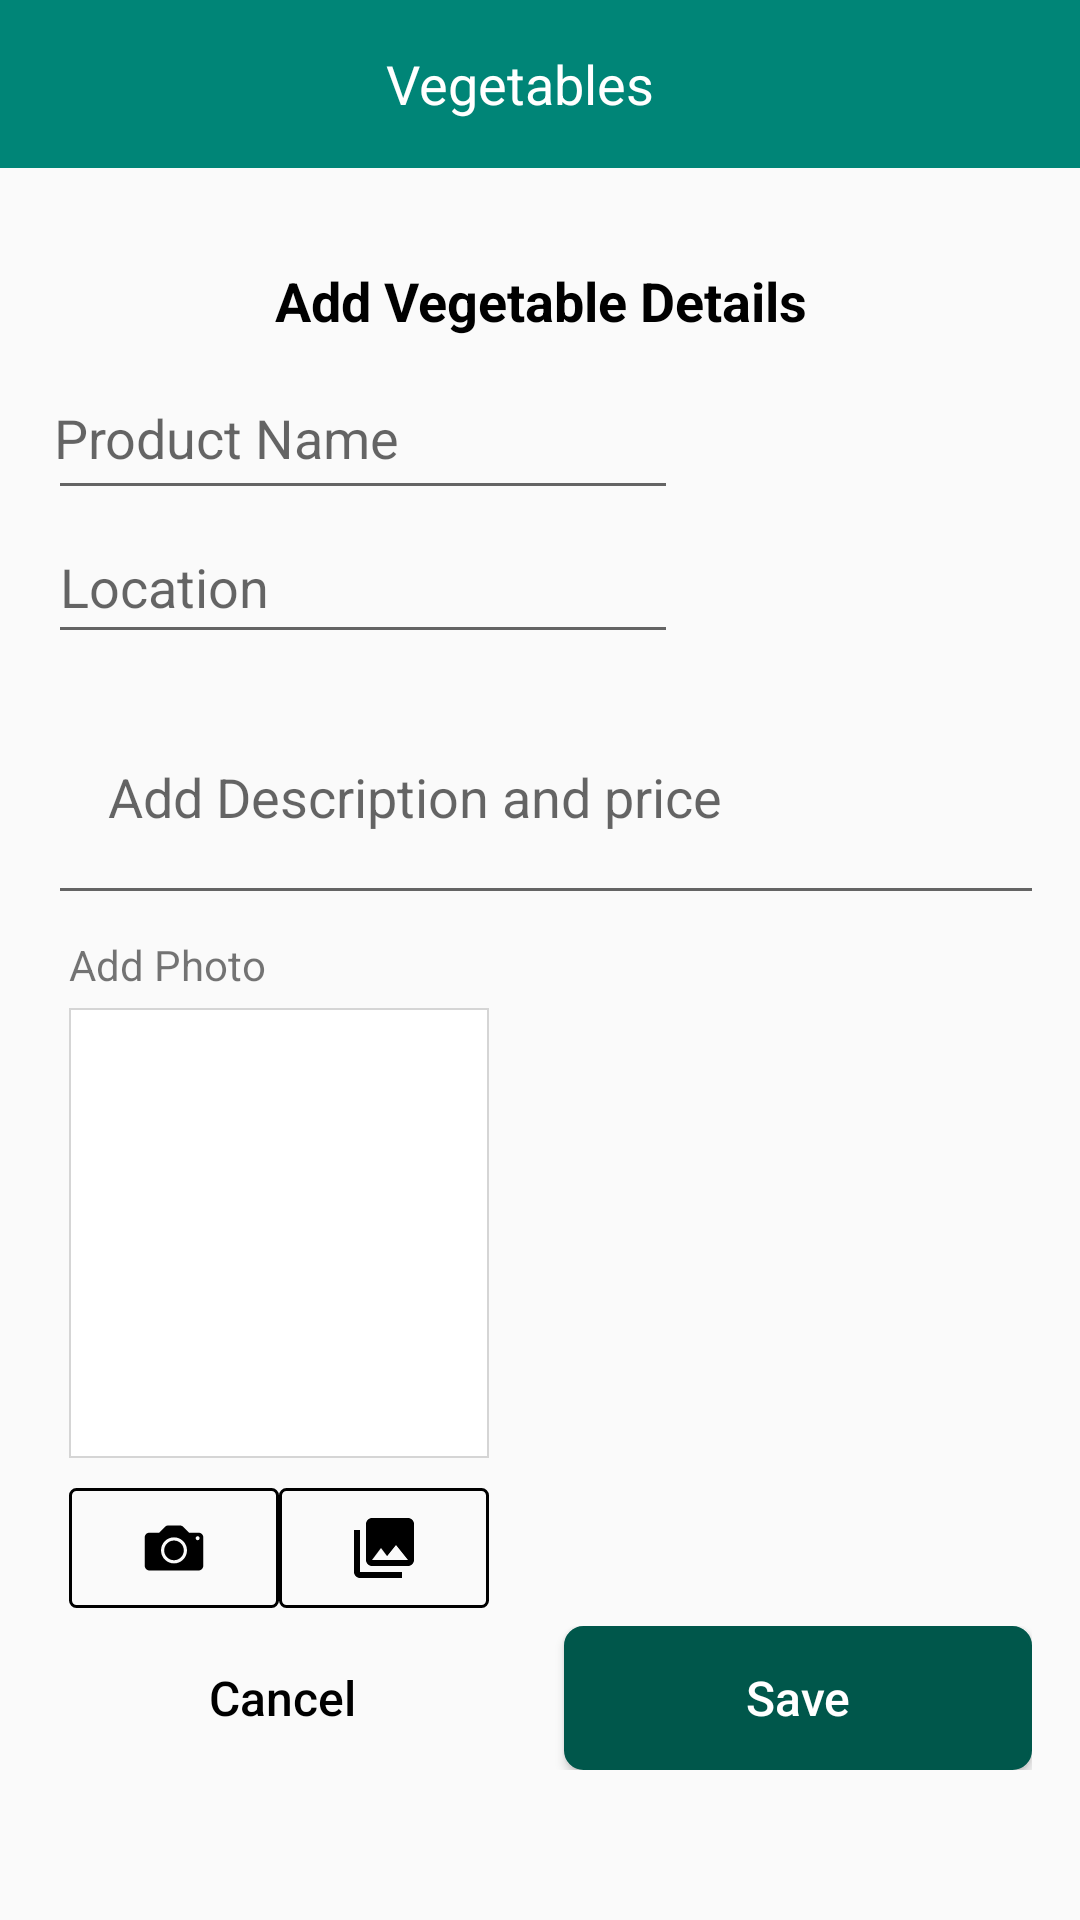

Named icons in this screenshot (1080×1920) and their centers, (x,y):
camera: (174,1548)
photo library: (384,1548)
